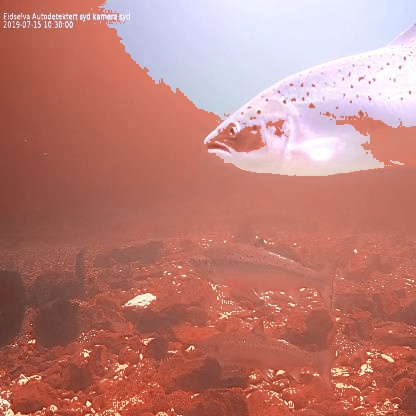salmon: (204, 20, 416, 178), (187, 236, 343, 315), (196, 319, 341, 391)
